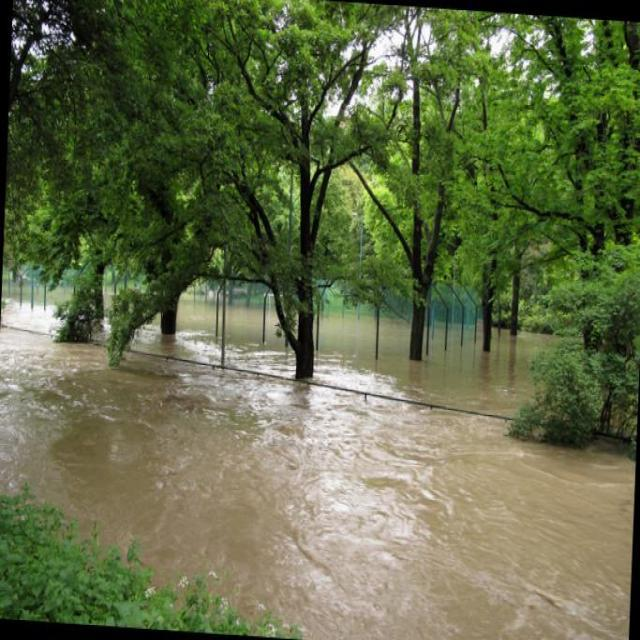flood: (0, 248, 639, 639)
